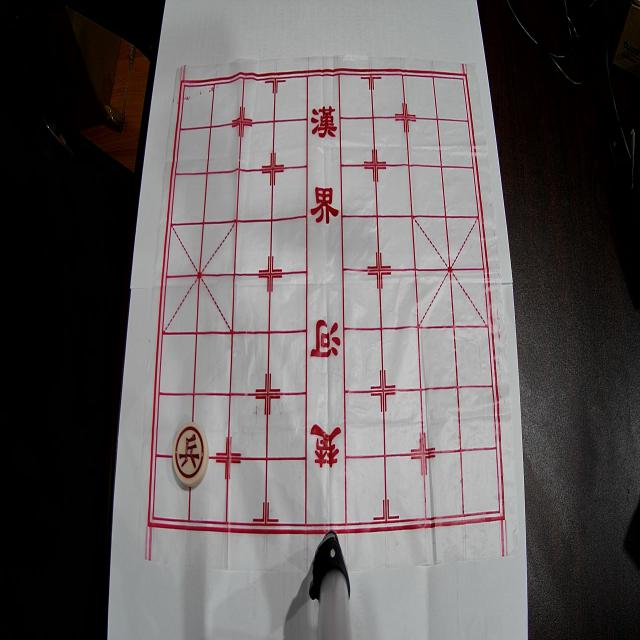red-soldier: (173, 422, 209, 487)
